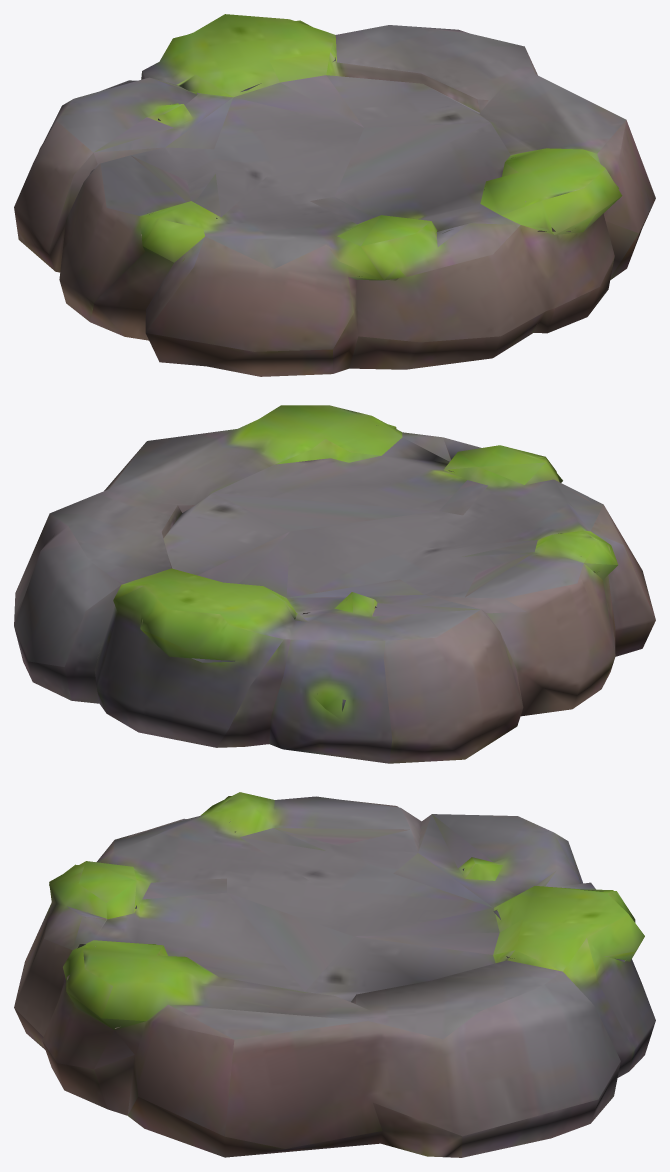
File: x-rock-slab.glb
3 views of the same model, one above another, from view 1: azimuth 30°, elevation 25°; view 2: azimuth 150°, elevation 25°; view 3: azimuth 270°, elevation 25° (orthographic). The views are drawn at different scales.
Parts seen in each view (by area): view 1: geometry_0; view 2: geometry_0; view 3: geometry_0.
Part boxes in pixels (<box>): geometry_0: <box>14,14,655,376</box>; geometry_0: <box>14,405,655,763</box>; geometry_0: <box>14,792,655,1157</box>.
Bounding box in the file's own units: 0.99 × 0.2272 × 1.
1 material, 1 textured.
